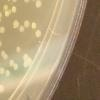white: (22, 17, 31, 31), (12, 18, 20, 30), (34, 28, 42, 39), (11, 4, 18, 16), (34, 0, 43, 9), (18, 24, 26, 34), (8, 59, 16, 68), (26, 56, 33, 66), (15, 45, 21, 56), (6, 69, 12, 80), (2, 3, 9, 12), (2, 53, 9, 61), (22, 60, 29, 68), (0, 82, 4, 96), (31, 21, 37, 30), (12, 62, 18, 71), (4, 10, 10, 18), (0, 26, 6, 34), (1, 50, 6, 59), (23, 53, 29, 60), (7, 8, 12, 16), (22, 0, 31, 4), (0, 67, 5, 74), (10, 0, 18, 4), (0, 39, 3, 48), (6, 0, 12, 3), (0, 11, 2, 19), (32, 0, 37, 3), (0, 16, 2, 22)
